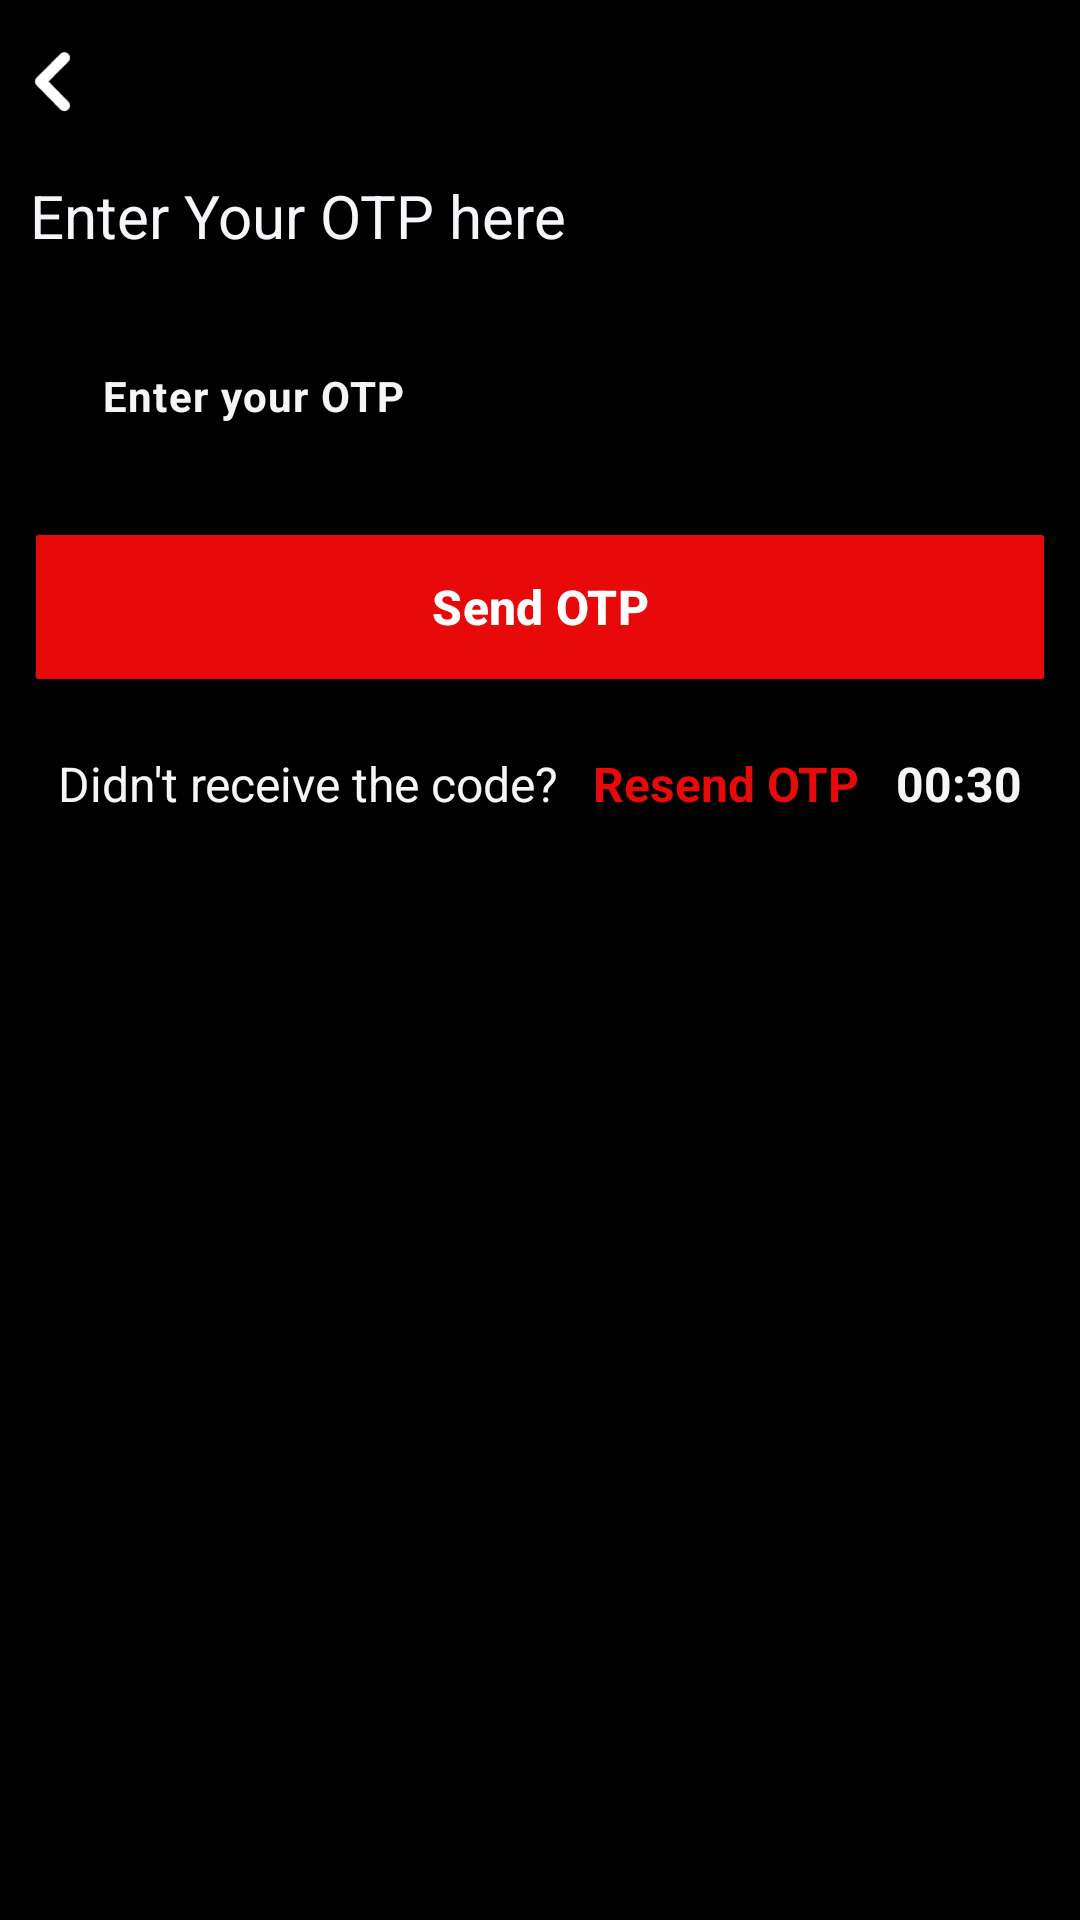

Icons on this 1080x1920 Android screen, each with its box as BBox(x1, y1, x2, y2):
left arrow: BBox(34, 52, 71, 111)
